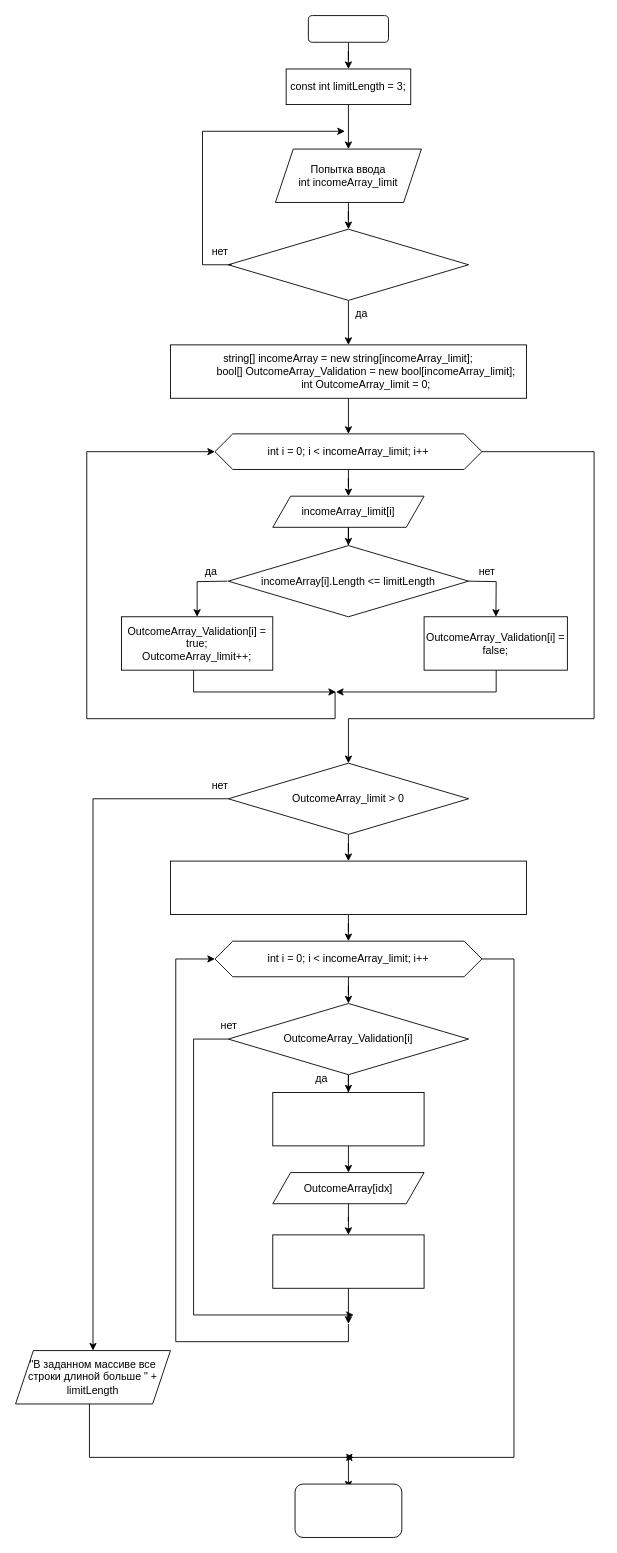
Image size: 617x1553. Some labels were removed from this diagram. The centre of each missing label's shape, as x and y in pixels:
idx++;: [348,1261]
OutcomeArray[idx] = incomeArray[i];: [348,1119]
string[] OutcomeArray = new string[OutcomeArray_limit]; int idx = 0;: [348,887]
Ввод успешен?: [348,264]
Выход: [348,1510]
Начало: [347,28]
